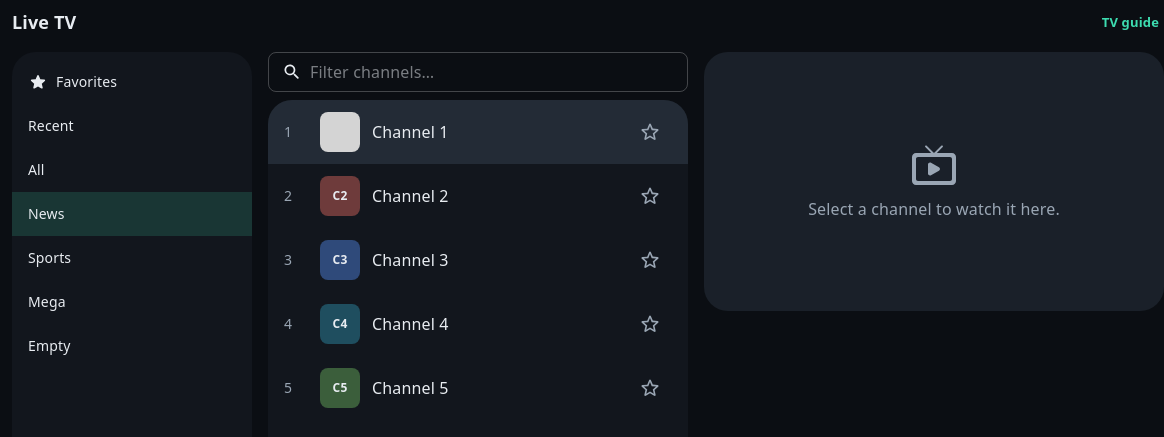
it: LIV-04 — quick channel filter › Esc clears the filter and the whole category is back
In the search field labelled "Filter channels": (499, 72) [310,52,688,92], type "channel 4"
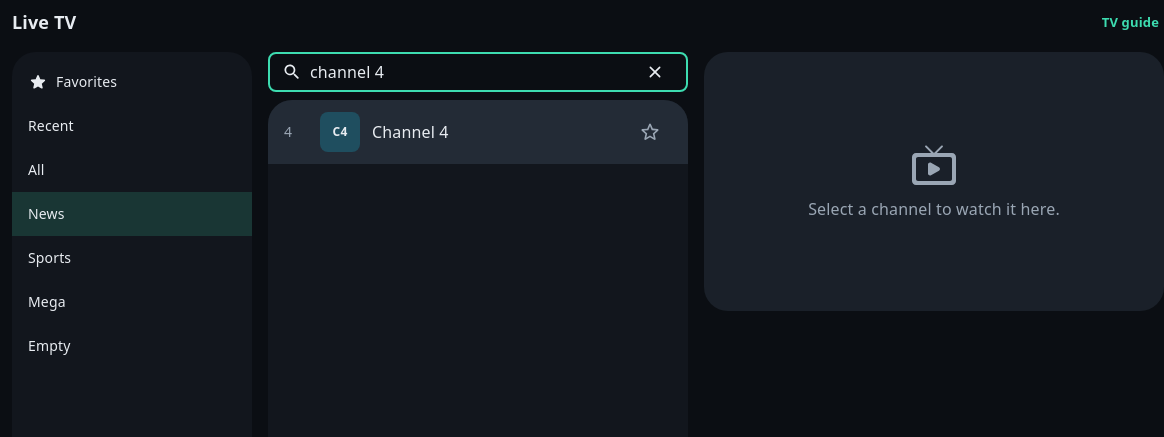
Press Escape
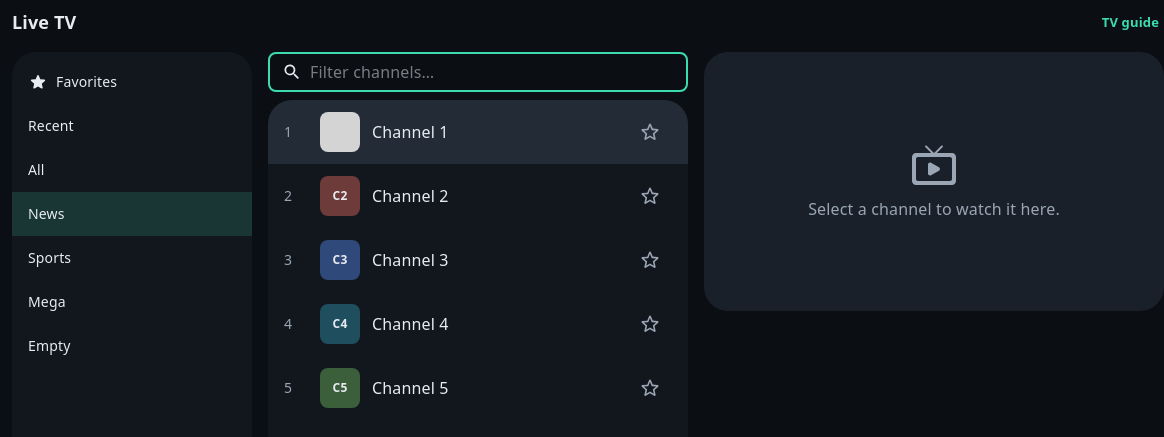
Expected: the search field labelled "Filter channels" is empty, [310,52,688,92]
Expected: the number of options is 5, [268,100,688,164]; [268,164,688,228]; [268,228,688,292]; [268,292,688,356]; [268,356,688,420]
